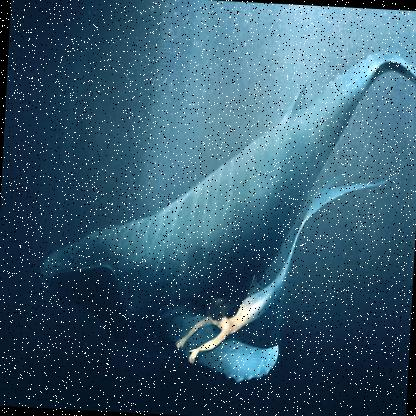blue_whale: (26, 32, 415, 383)
